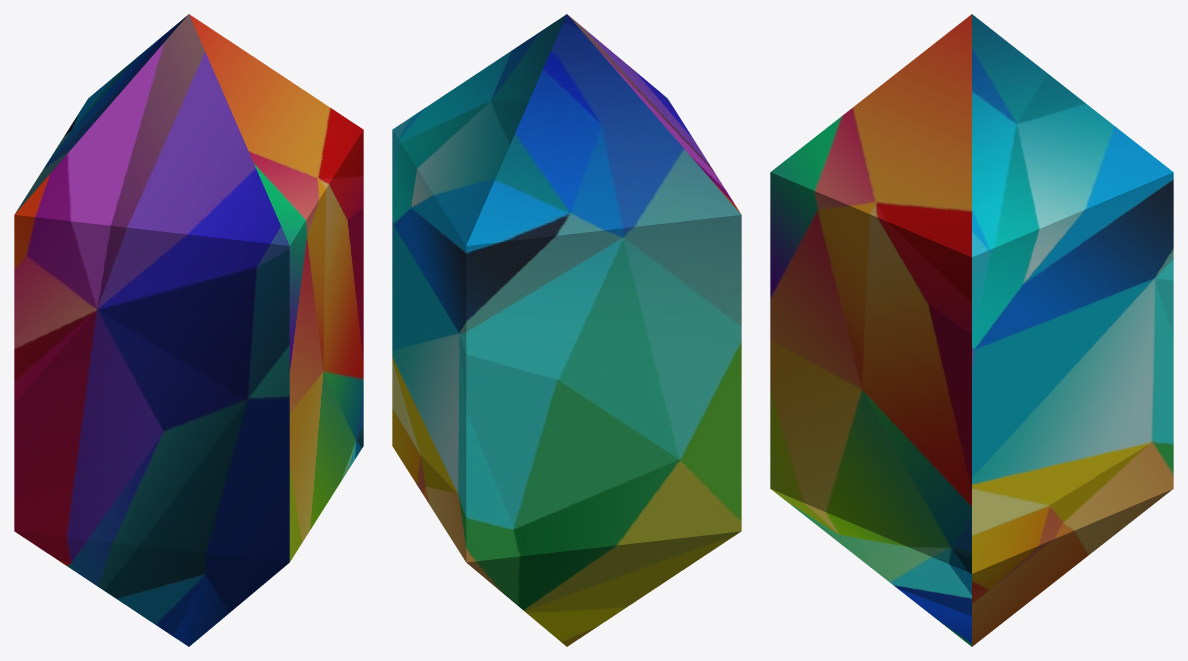
Rendered from HPMP.gltf.
3 views of the same model, side by side, from view 1: azimuth 30°, elevation 25°; view 2: azimuth 150°, elevation 25°; view 3: azimuth 270°, elevation 25° (orthographic).
Visible parts, largest first — view 1: Sphere; view 2: Sphere; view 3: Sphere.
Part boxes in pixels (x1,y1,x2,y2): Sphere: (14, 14, 363, 646); Sphere: (392, 14, 741, 646); Sphere: (770, 14, 1173, 646).
Size of the model in its own units: 0.6928 by 1.2 by 0.6928.
